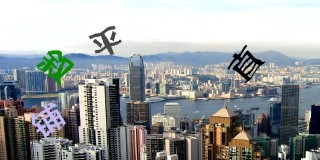叙: (34, 48, 74, 85)
平: (87, 26, 121, 56)
直: (228, 44, 267, 84)
铺: (29, 102, 66, 138)
